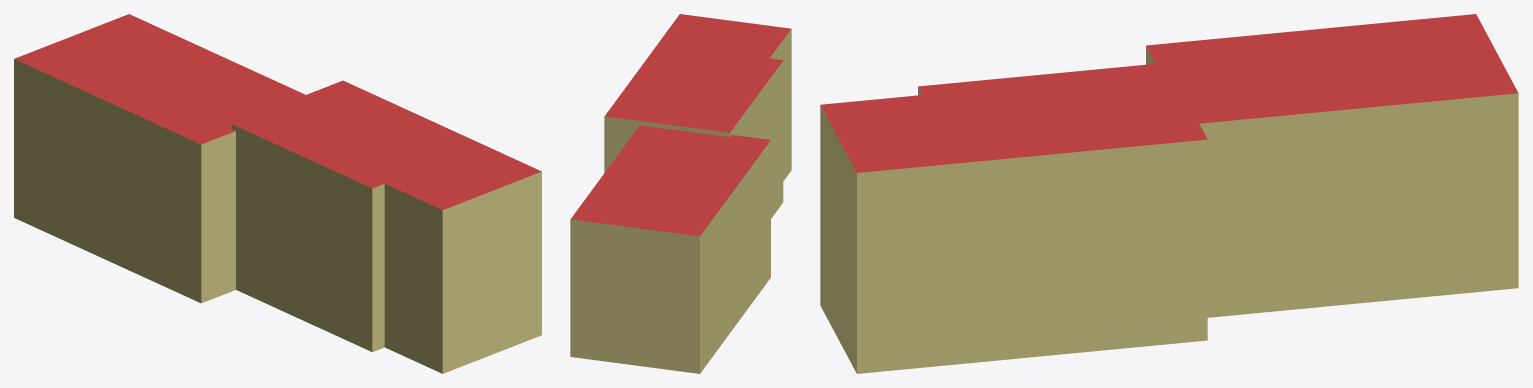
3 views of the same model, side by side, from view 1: azimuth 30°, elevation 25°; view 2: azimuth 150°, elevation 25°; view 3: azimuth 270°, elevation 25° (orthographic). The views are drawn at different scales.
Parts seen in each view (by area): view 1: group_4, group_7, group_3, group_6; view 2: group_7, group_3, group_6, group_4; view 3: group_4, group_7, group_3, group_6.
Part boxes in pixels (bbox=[...]): group_4: bbox=[231, 124, 541, 373]; group_7: bbox=[14, 59, 235, 303]; group_3: bbox=[232, 80, 541, 209]; group_6: bbox=[14, 14, 305, 144]; group_7: bbox=[570, 140, 770, 373]; group_3: bbox=[605, 14, 790, 132]; group_6: bbox=[571, 125, 770, 236]; group_4: bbox=[604, 29, 791, 218]; group_4: bbox=[820, 86, 1207, 373]; group_7: bbox=[1146, 46, 1518, 317]; group_3: bbox=[820, 62, 1207, 172]; group_6: bbox=[1146, 14, 1518, 123].
Bounding box in the file's own units: 35.13 × 62.8 × 19.95.
